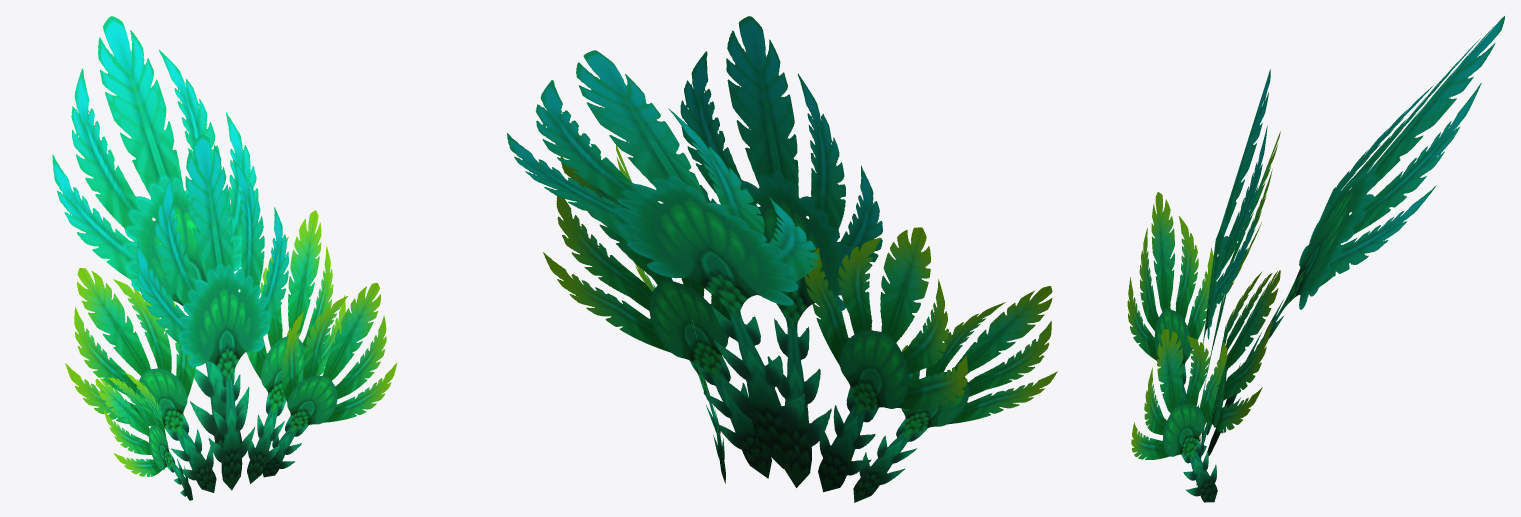
Rendered from Green_Bush_04b.FBX.
3 views of the same model, side by side, from view 1: azimuth 30°, elevation 25°; view 2: azimuth 150°, elevation 25°; view 3: azimuth 270°, elevation 25° (orthographic). The views are drawn at different scales.
Parts seen in each view (by area): view 1: Green_Bush_04b; view 2: Green_Bush_04b; view 3: Green_Bush_04b.
Part boxes in pixels (x1,y1,x2,y2): Green_Bush_04b: [52, 16, 397, 500]; Green_Bush_04b: [507, 16, 1057, 502]; Green_Bush_04b: [1127, 16, 1504, 502].
Size of the model in its own units: 135 by 152 by 114.
